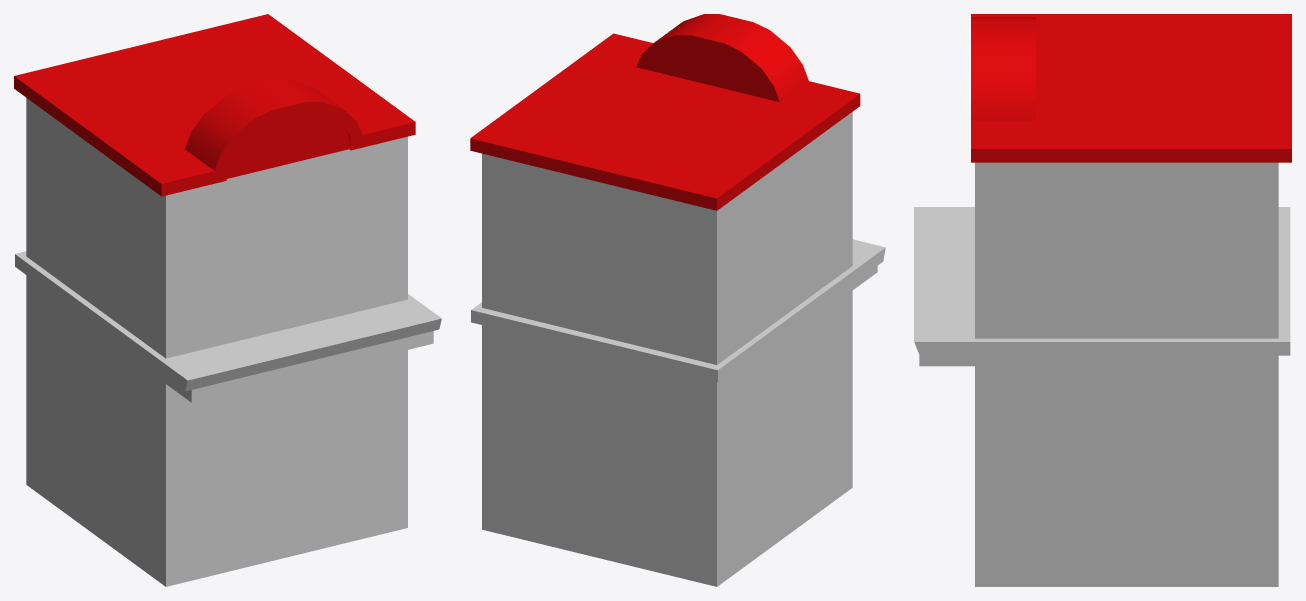
File: House1.fbx
The picture shows the model from 3 angles, left to right: view 1: azimuth 30°, elevation 25°; view 2: azimuth 150°, elevation 25°; view 3: azimuth 270°, elevation 25°; orthographic projection. The views are drawn at different scales.
Parts seen in each view (by area): view 1: House1_LOD0, House1_LOD0.001; view 2: House1_LOD0, House1_LOD0.001; view 3: House1_LOD0, House1_LOD0.001.
Part boxes in pixels (bbox=[...]): House1_LOD0: bbox=[15, 98, 441, 586]; House1_LOD0.001: bbox=[14, 14, 415, 196]; House1_LOD0: bbox=[471, 112, 885, 586]; House1_LOD0.001: bbox=[470, 14, 860, 210]; House1_LOD0: bbox=[914, 162, 1290, 586]; House1_LOD0.001: bbox=[971, 14, 1291, 162].
Bounding box in the file's own units: 525 × 892 × 621.
